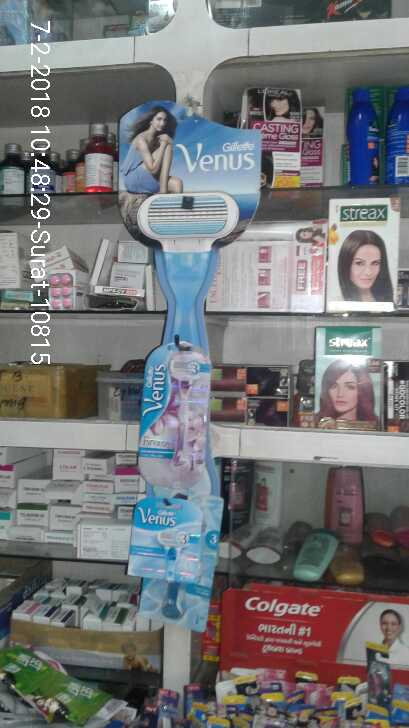venus: (125, 490, 223, 624), (135, 336, 211, 468)
